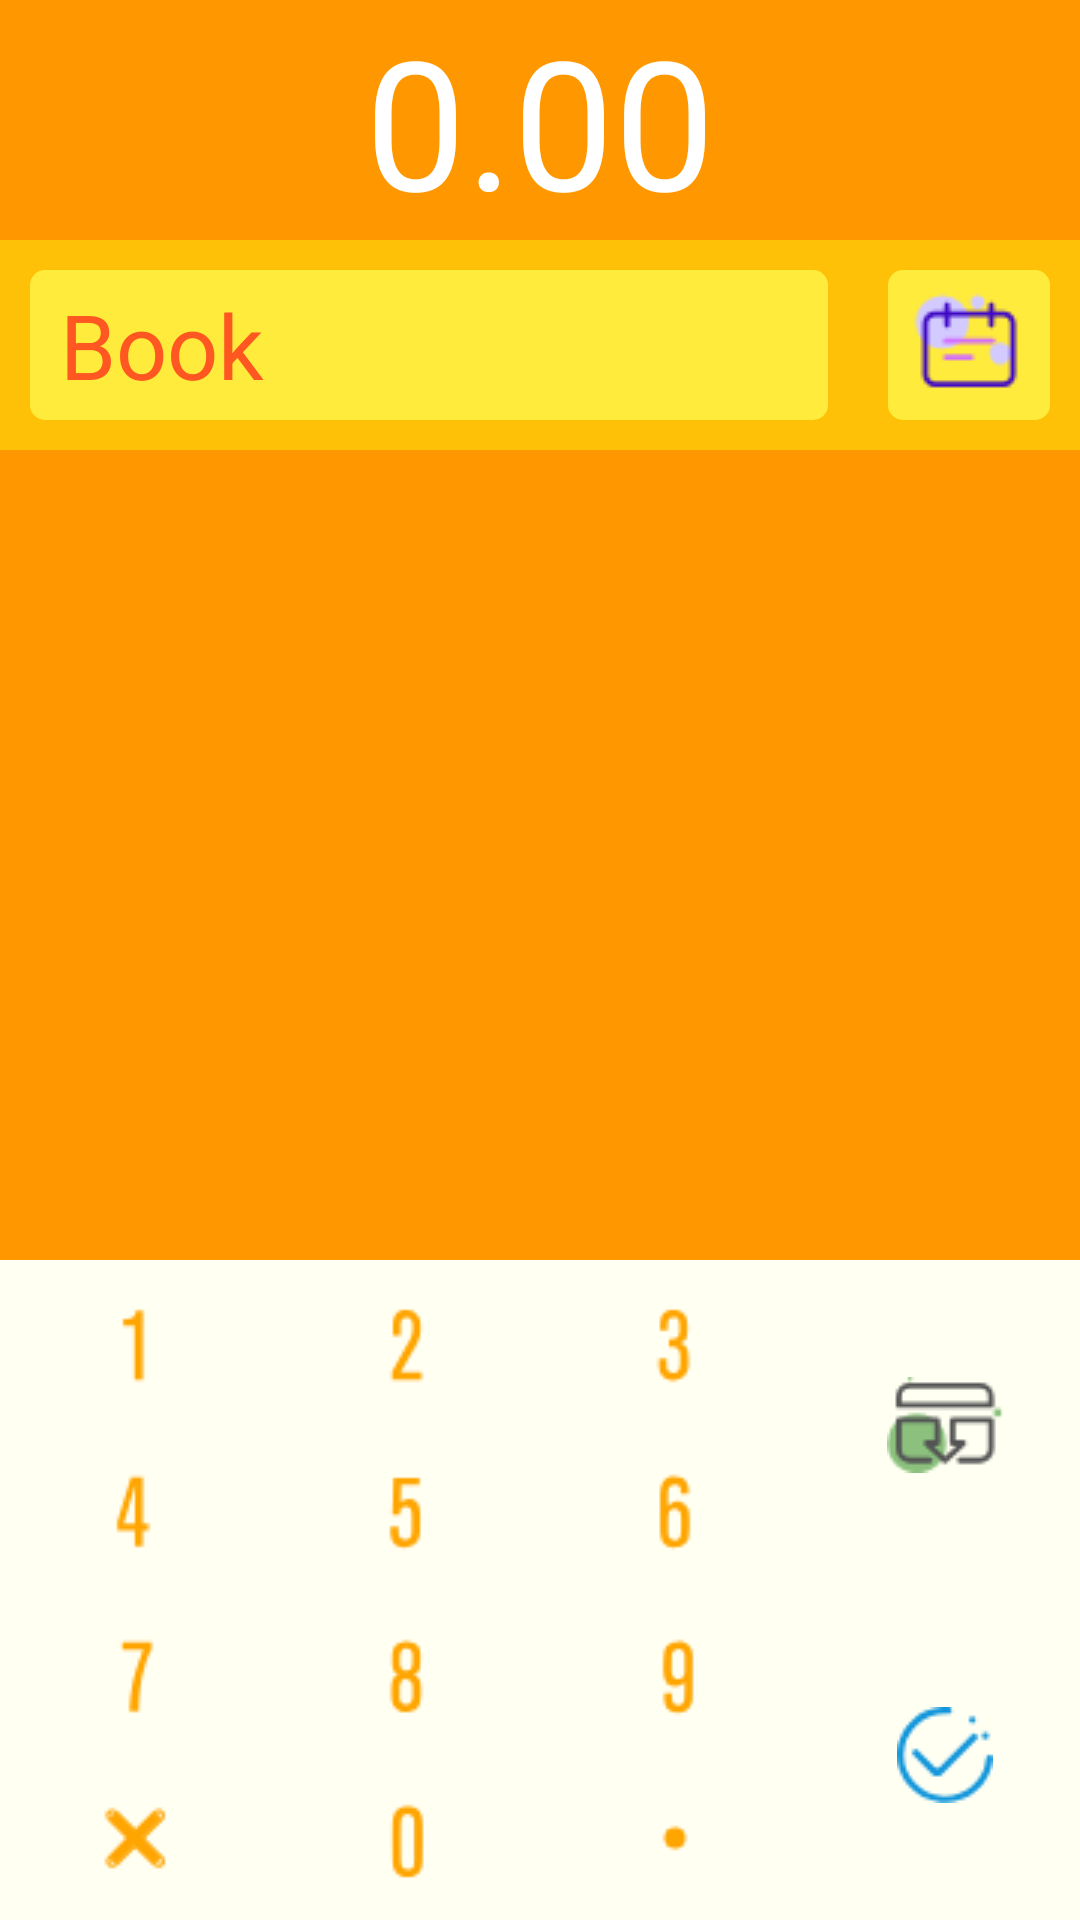

Named icons in this screenshot (1080px x 1920px) and their bounding boxes, [left=x1, top=y1, right=x2, bottom=y2]:
calendar: [left=888, top=270, right=1050, bottom=420]
done: [left=897, top=1707, right=993, bottom=1803]
